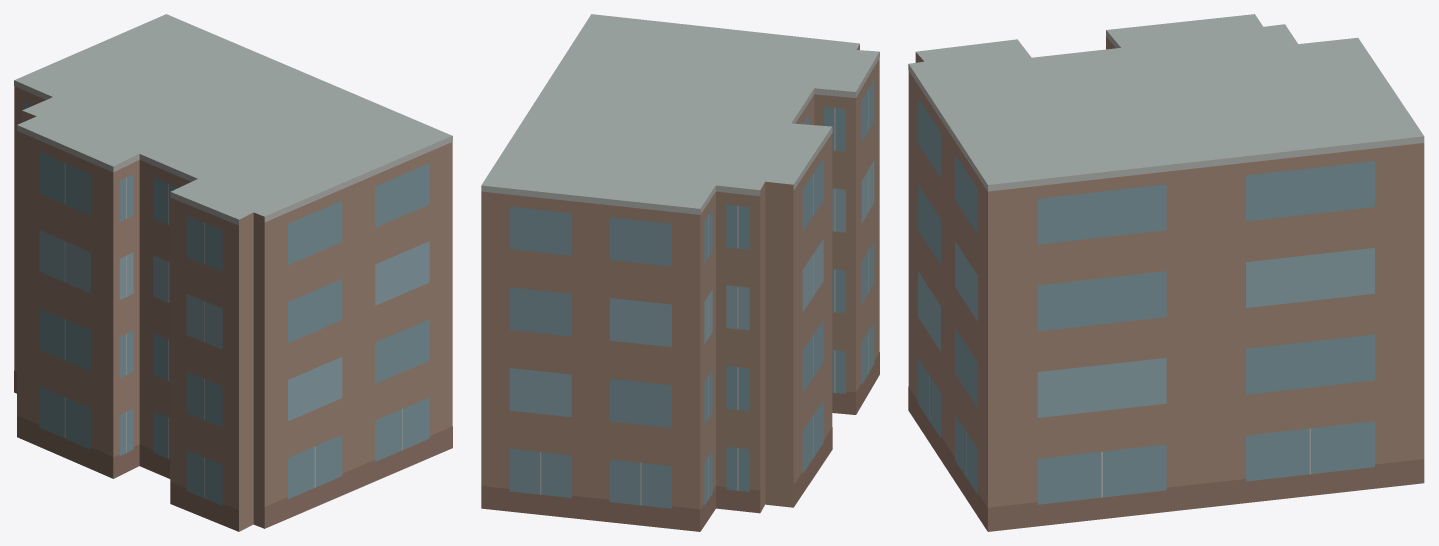
The model's file is survey-upis-33004065.glb.
3 renders of one model, left to right at view 1: azimuth 30°, elevation 25°; view 2: azimuth 150°, elevation 25°; view 3: azimuth 270°, elevation 25°, orthographic. The views are drawn at different scales.
Visible parts, largest first — view 1: survey-upis-33004065.tmp; view 2: survey-upis-33004065.tmp; view 3: survey-upis-33004065.tmp.
Part boxes in pixels (<box>): survey-upis-33004065.tmp: <box>14,14,452,531</box>; survey-upis-33004065.tmp: <box>481,14,879,531</box>; survey-upis-33004065.tmp: <box>908,14,1424,531</box>.
Size of the model in its own units: 13.77 by 13 by 17.54.
